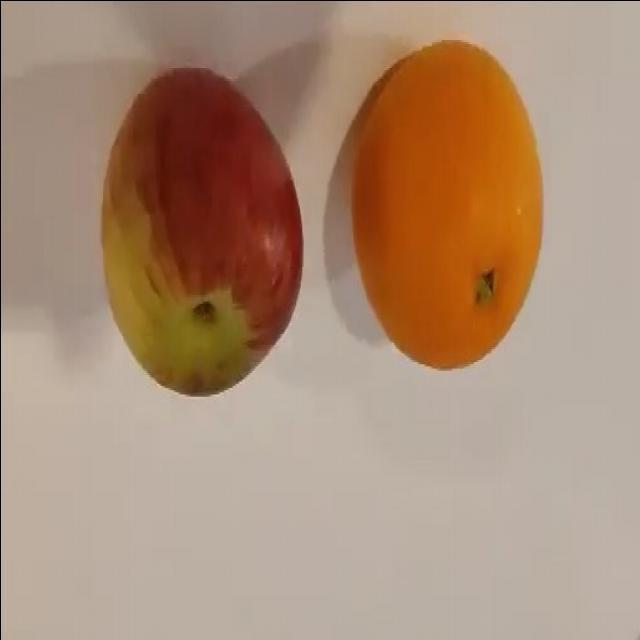Apple: (99, 65, 304, 397)
Orange: (349, 38, 543, 370)
